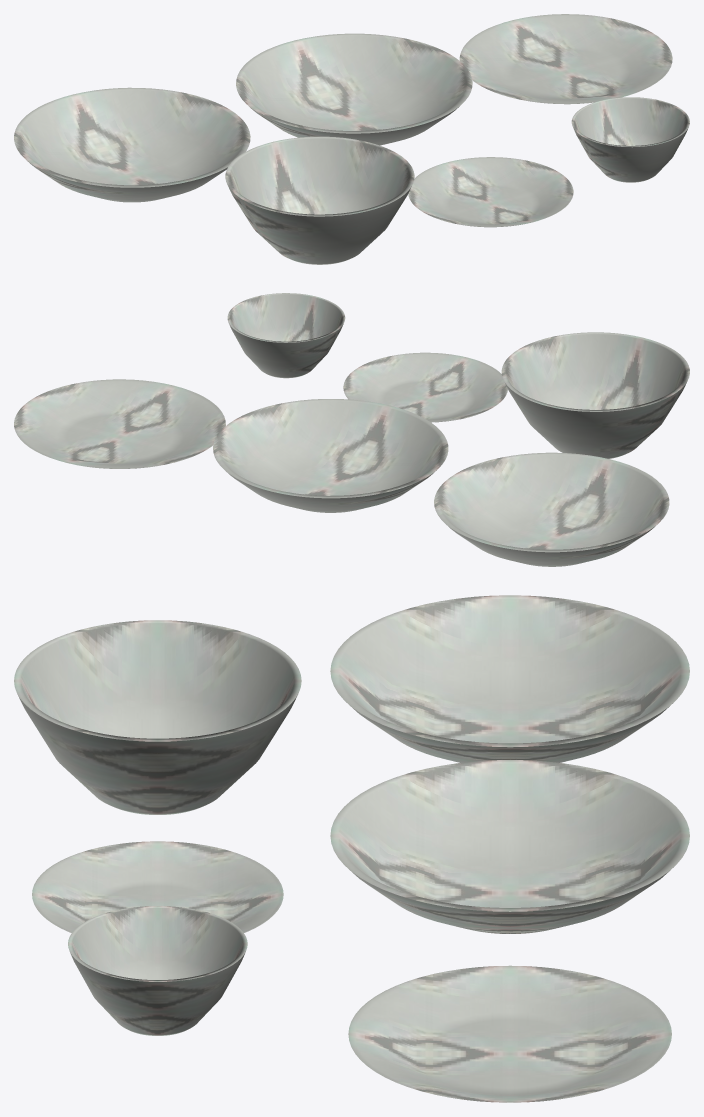
The model's file is NAV-02.glb.
3 renders of one model, top to bottom at view 1: azimuth 30°, elevation 25°; view 2: azimuth 150°, elevation 25°; view 3: azimuth 270°, elevation 25°, orthographic. The views are drawn at different scales.
Bounding box in the file's own units: 0.92 × 0.1 × 0.564.
Materials: 12 (12 with a texture image).
